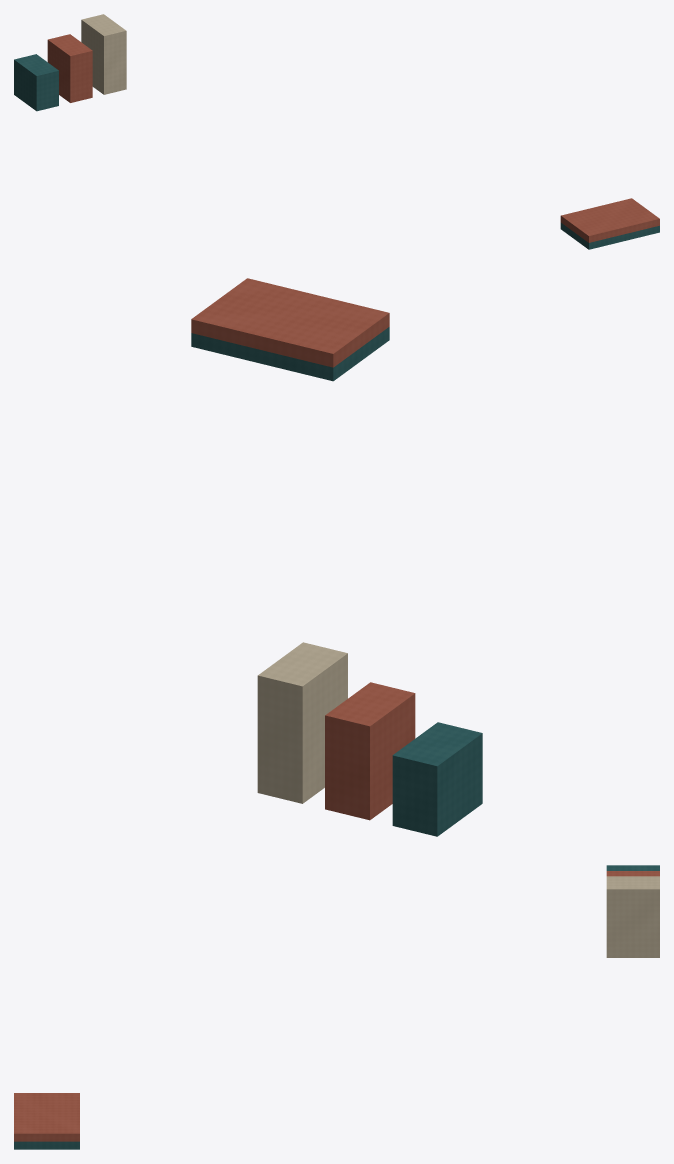
File: detail_props.glb
The picture shows the model from 3 angles, top to bottom: view 1: azimuth 30°, elevation 25°; view 2: azimuth 150°, elevation 25°; view 3: azimuth 270°, elevation 25°; orthographic projection. The views are drawn at different scales.
Parts seen in each view (by area): view 1: SUI_DeskBook_2, SUI_TableBook_1, SUI_DeskBook_1, SUI_DeskBook_0, SUI_TableBook_0; view 2: SUI_DeskBook_2, SUI_TableBook_1, SUI_DeskBook_1, SUI_DeskBook_0, SUI_TableBook_0; view 3: SUI_DeskBook_2, SUI_TableBook_1, SUI_TableBook_0.
Boxes of the visible parts, x1,y1,x2,y2 form: SUI_DeskBook_2: (81,14,126,94); SUI_TableBook_1: (560,198,659,242); SUI_DeskBook_1: (47,34,92,102); SUI_DeskBook_0: (14,54,58,111); SUI_TableBook_0: (560,222,659,249); SUI_DeskBook_2: (257,642,347,803); SUI_TableBook_1: (191,278,389,367); SUI_DeskBook_1: (325,682,415,820); SUI_DeskBook_0: (392,722,482,836); SUI_TableBook_0: (191,327,389,381); SUI_DeskBook_2: (606,876,659,957); SUI_TableBook_1: (14,1093,79,1141); SUI_TableBook_0: (14,1141,79,1149).
Bounding box in the file's own units: 1.98 × 0.435 × 2.55.
3 materials, 3 textured.
